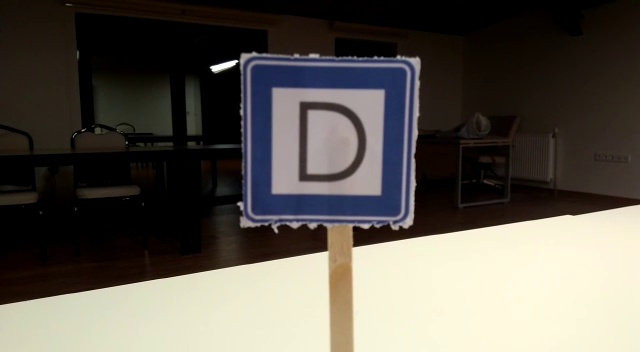durak: (241, 56, 415, 224)
